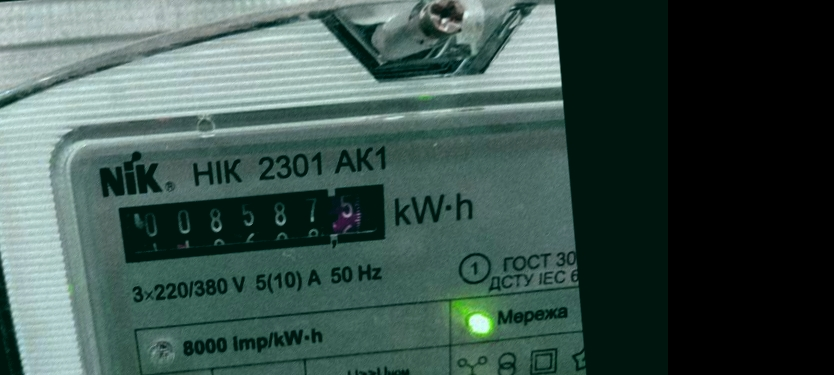0: (140, 209, 159, 239), (174, 207, 193, 236)
5: (337, 192, 356, 223), (237, 201, 257, 230)
7: (301, 194, 321, 226)
8: (269, 198, 289, 229), (206, 205, 224, 235)
screen: (98, 168, 406, 277)
